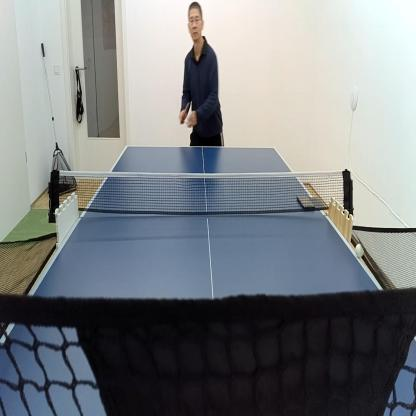Ball: (356, 242, 363, 258)
